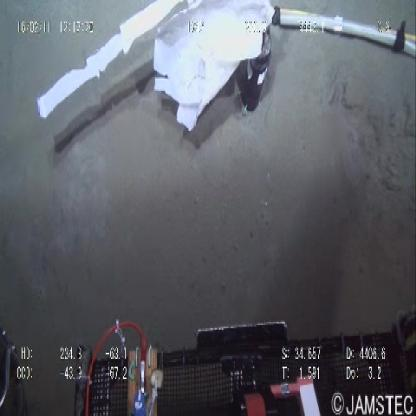Rov: (71, 308, 416, 415)
Rác: (33, 2, 276, 137)
